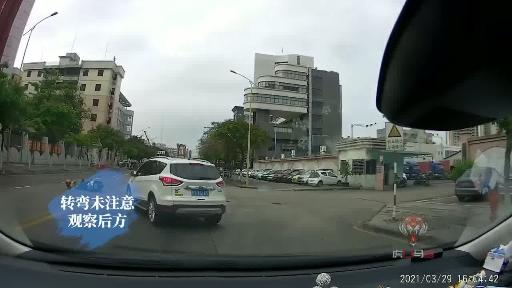Accident: (64, 176, 108, 197)
CAR: (126, 155, 231, 230), (456, 168, 492, 200), (310, 166, 344, 189)
